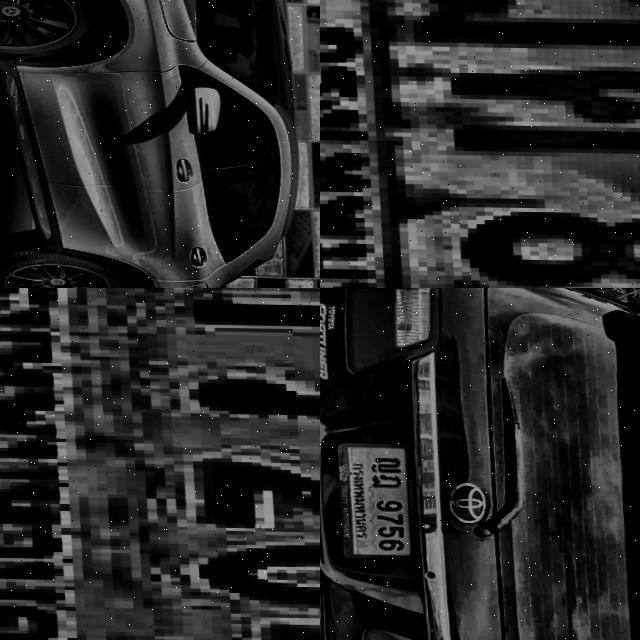license-plate: (0, 288, 320, 640), (320, 0, 640, 288), (325, 442, 411, 558)
